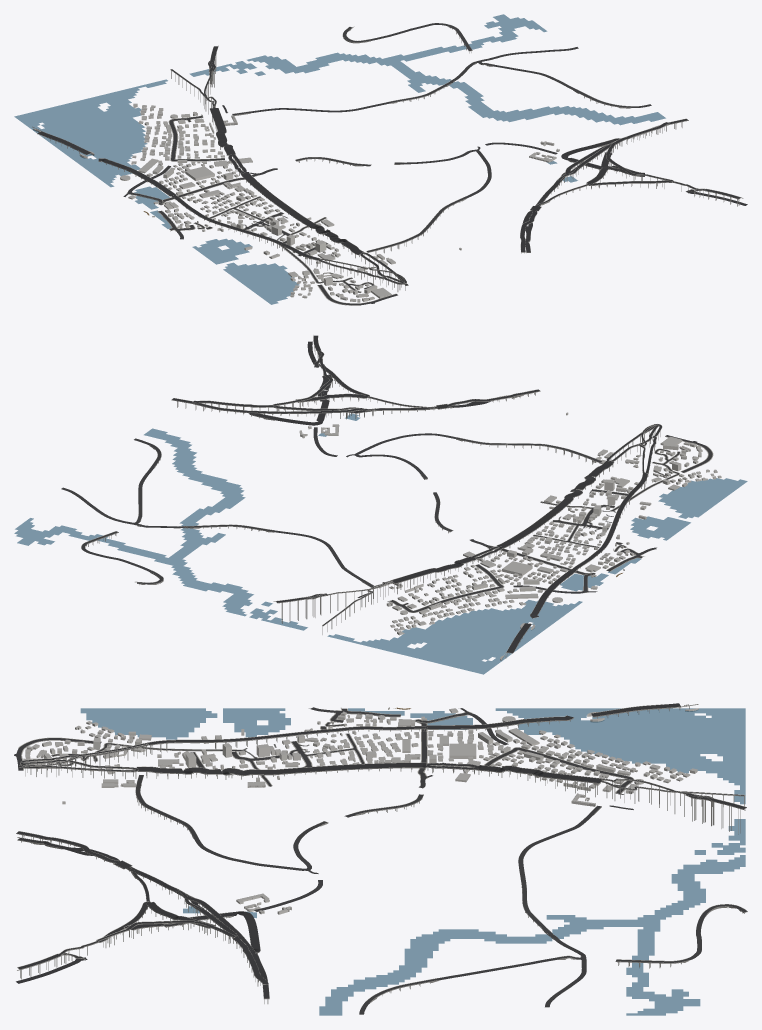
Rendered from chunk_5_3.glb.
The picture shows the model from 3 angles, top to bottom: view 1: azimuth 30°, elevation 25°; view 2: azimuth 150°, elevation 25°; view 3: azimuth 270°, elevation 25°; orthographic projection. The views are drawn at different scales.
Parts seen in each view (by area): view 1: Water_5_3, Roads_5_3, RoadSides_5_3, Filler_5_3, Buildings_5_3; view 2: Water_5_3, Roads_5_3, RoadSides_5_3, Filler_5_3, Buildings_5_3; view 3: Water_5_3, Roads_5_3, RoadSides_5_3, Filler_5_3, Buildings_5_3.
Part boxes in pixels (x1,y1,x2,y2): Water_5_3: (14,14,665,304); Roads_5_3: (37,23,747,305); RoadSides_5_3: (32,25,743,305); Filler_5_3: (128,103,377,302); Buildings_5_3: (33,111,559,301); Water_5_3: (14,413,747,674); Roads_5_3: (61,335,712,652); RoadSides_5_3: (81,335,713,658); Filler_5_3: (390,442,721,635); Buildings_5_3: (299,412,717,660); Water_5_3: (80,708,745,1015); Roads_5_3: (14,703,747,1014); RoadSides_5_3: (16,704,747,1003); Filler_5_3: (25,708,697,788); Buildings_5_3: (23,707,698,914).
Bounding box in the file's own units: 2063 × 88.64 × 2067.
